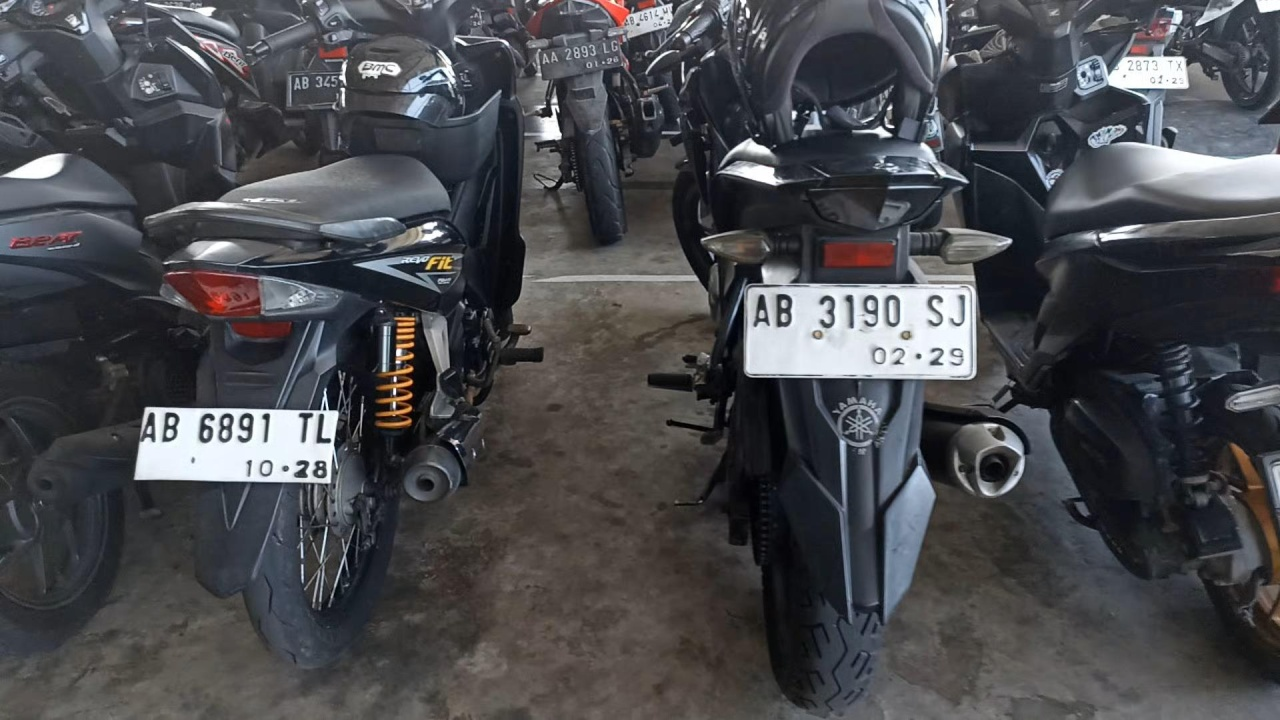plate: (744, 284, 975, 378), (134, 405, 338, 483), (539, 37, 622, 80)
